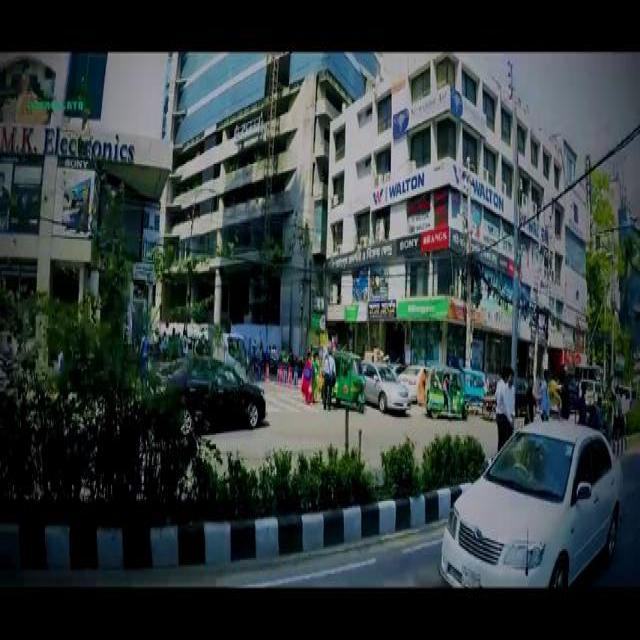car: (440, 417, 622, 581), (152, 355, 266, 428), (361, 358, 411, 410), (396, 361, 426, 397)
three wheelers -CNG-: (322, 349, 363, 409), (424, 363, 468, 416)
wheelbarrow: (478, 392, 496, 416)
